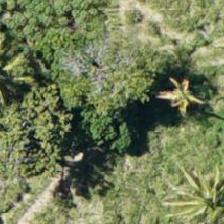coconut_tree: (129, 50, 219, 140), (170, 148, 223, 223)
